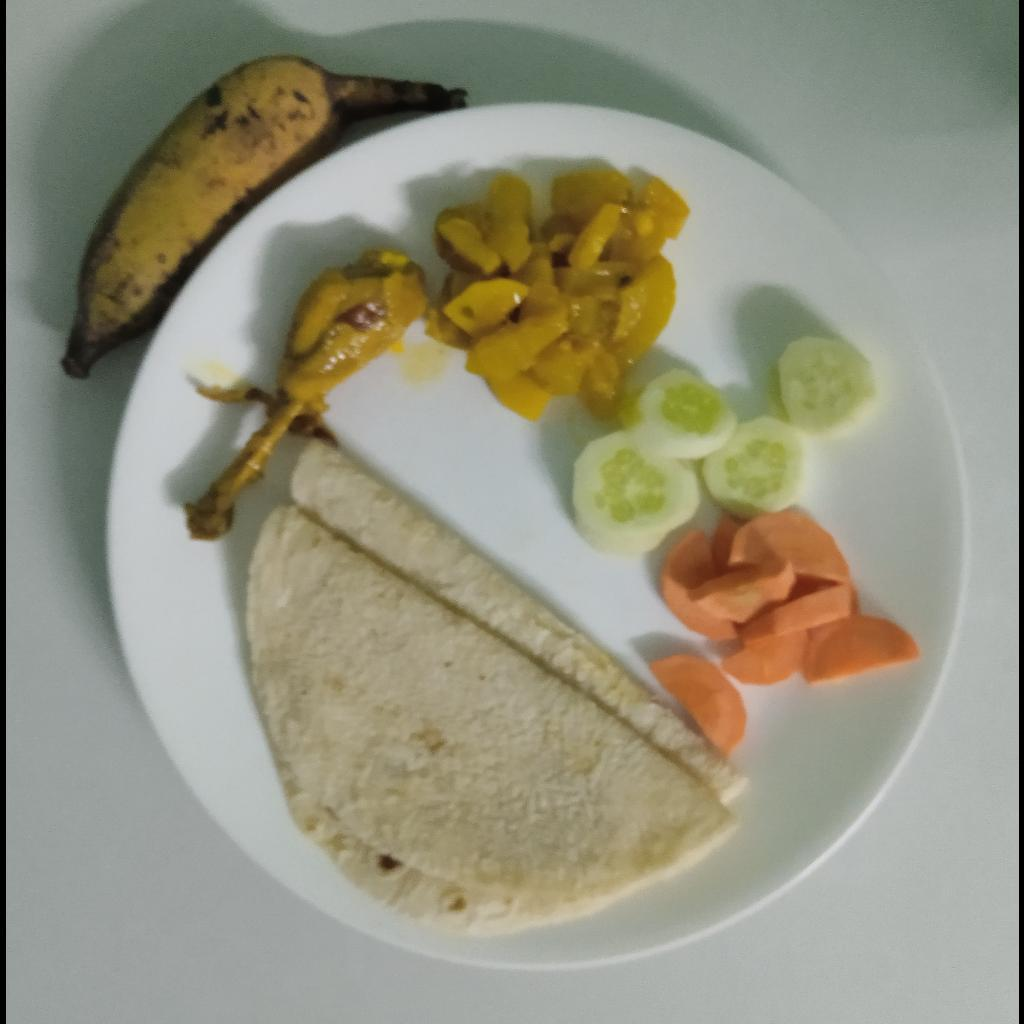banana: (56, 56, 474, 387)
carrot: (660, 506, 923, 684), (657, 648, 749, 762)
chicken: (180, 246, 430, 540)
cucumber: (571, 334, 881, 551)
lau: (419, 167, 686, 431)
ruti: (242, 437, 754, 935)
